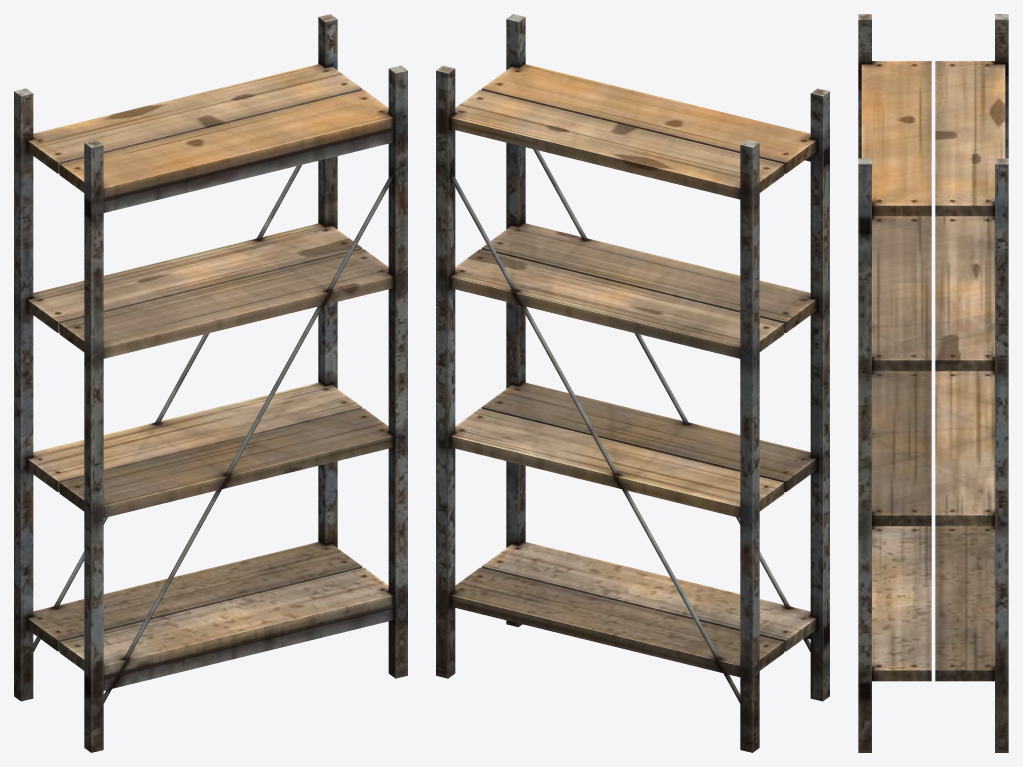
The model's file is prateleira_modulo.glb.
3 renders of one model, left to right at view 1: azimuth 30°, elevation 25°; view 2: azimuth 150°, elevation 25°; view 3: azimuth 270°, elevation 25°, orthographic. The views are drawn at different scales.
Parts seen in each view (by area): view 1: prateleira_modulo; view 2: prateleira_modulo; view 3: prateleira_modulo.
Boxes of the visible parts, box(x1,y1,x2,y2) form: prateleira_modulo: box(14, 14, 407, 752); prateleira_modulo: box(436, 14, 829, 752); prateleira_modulo: box(858, 14, 1008, 752).
Size of the model in its own units: 1.04 by 1.9 by 0.44.
1 material, 1 textured.
